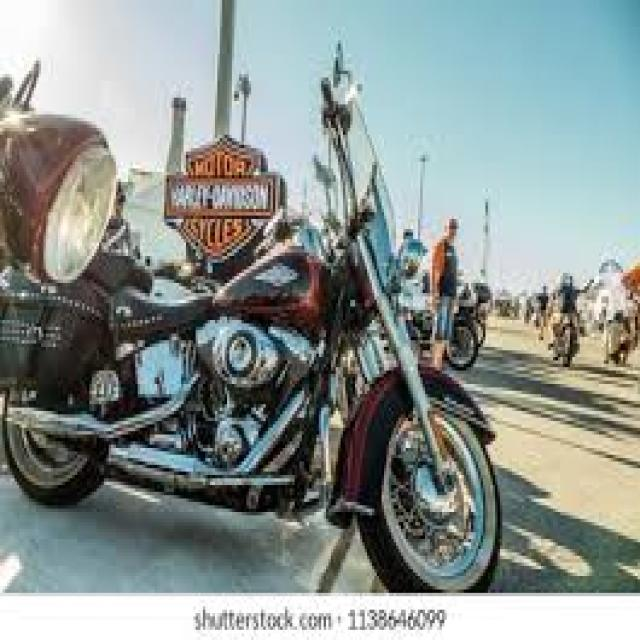MOTORCYCLE: (0, 202, 485, 592)
